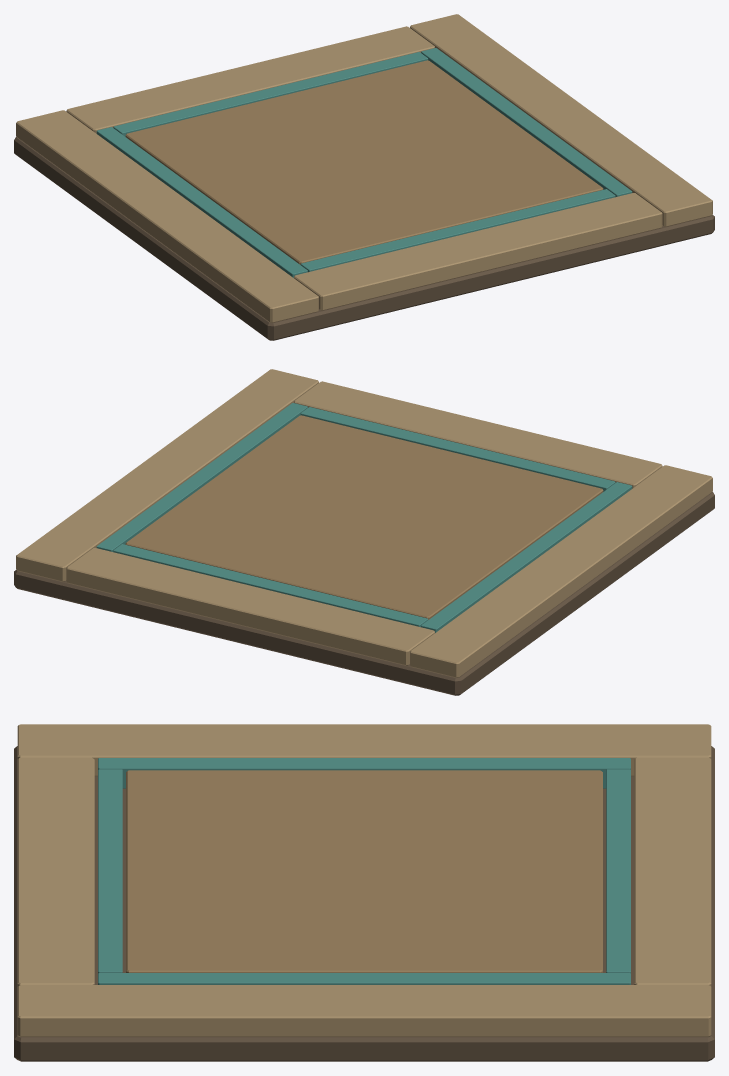
File: floor-inset.glb
The picture shows the model from 3 angles, top to bottom: view 1: azimuth 30°, elevation 25°; view 2: azimuth 150°, elevation 25°; view 3: azimuth 270°, elevation 25°; orthographic projection. The views are drawn at different scales.
Parts seen in each view (by area): view 1: floor-inset__body; view 2: floor-inset__body; view 3: floor-inset__body.
Boxes of the visible parts, x1=… form: floor-inset__body: x1=14, y1=14, x2=714, y2=340; floor-inset__body: x1=14, y1=369, x2=714, y2=695; floor-inset__body: x1=14, y1=724, x2=714, y2=1061.
Bounding box in the file's own units: 2 × 0.14 × 2.
